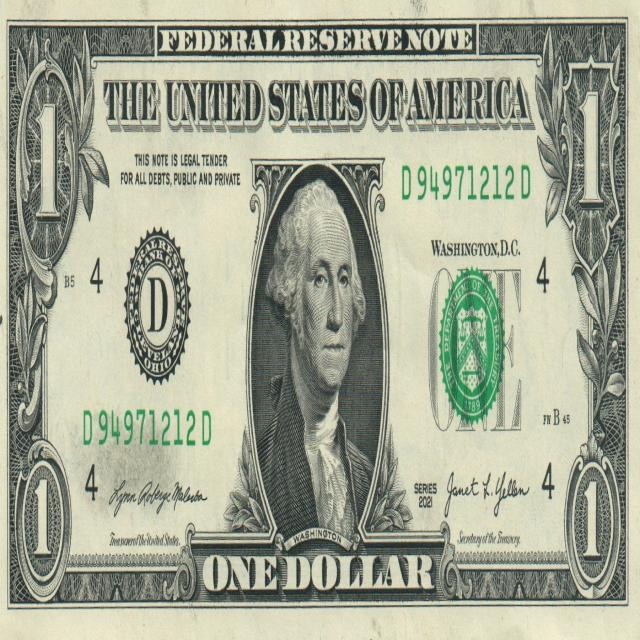SerialNumber: (84, 410, 211, 446), (402, 165, 530, 200)
